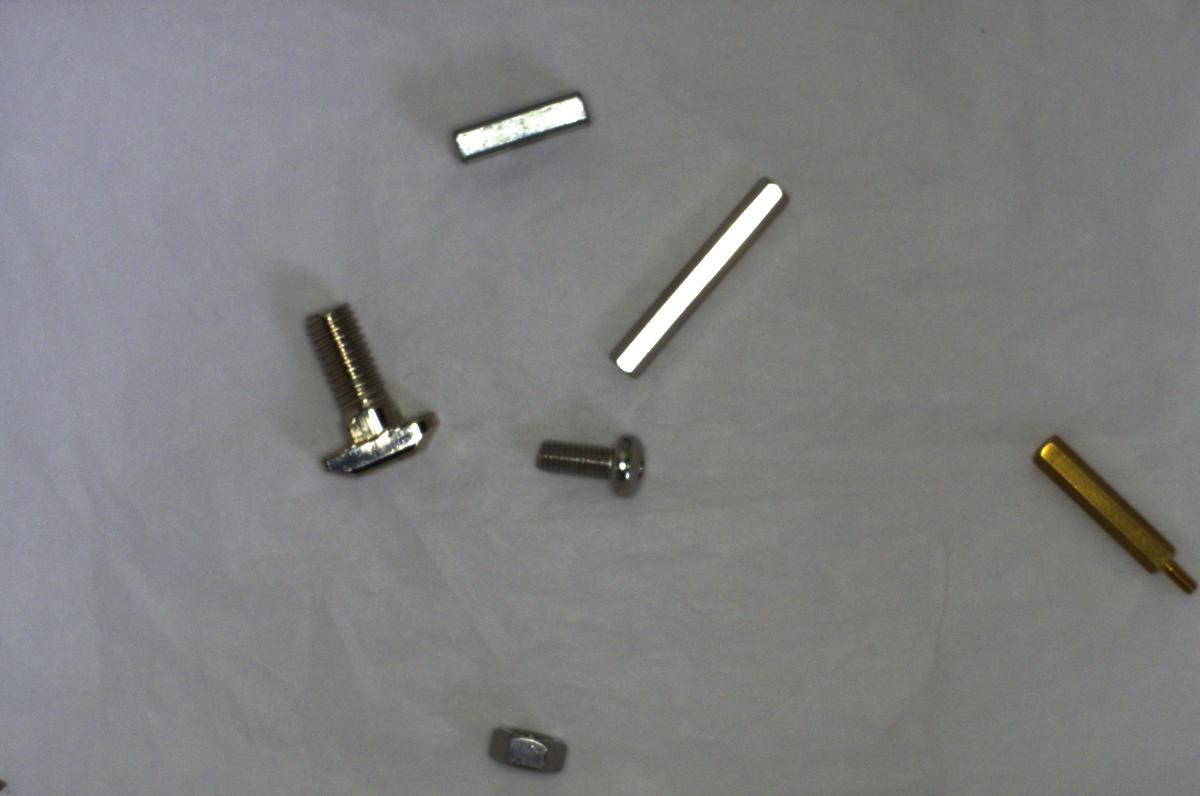Double hexagonal column: (600, 161, 790, 372)
Hexagon nut: (480, 716, 574, 780)
Hexagon pillar: (1024, 422, 1197, 602)
Rectangular nut: (448, 85, 591, 161)
Round head screw: (522, 426, 660, 503)
T-shaped screw: (292, 300, 441, 483)
